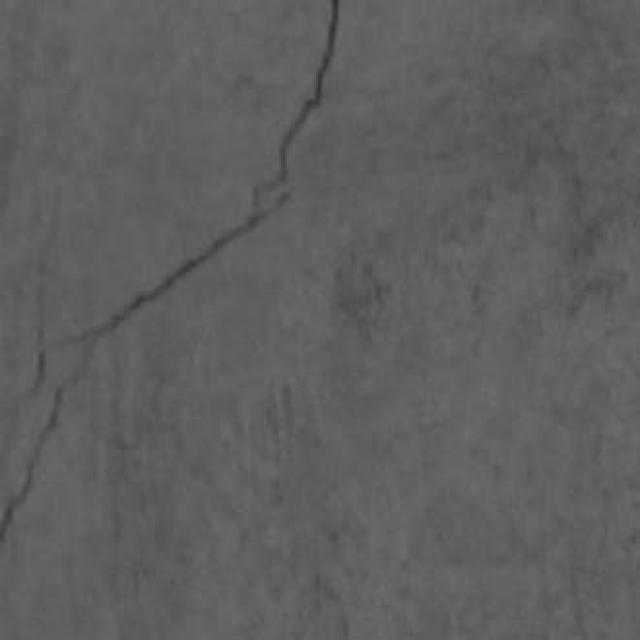crack: (0, 0, 339, 548), (59, 0, 341, 345), (59, 194, 288, 347), (0, 348, 93, 548), (256, 0, 341, 197), (0, 386, 65, 546)
